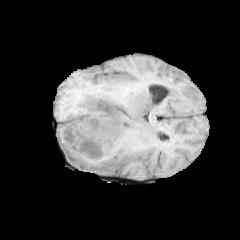glioma: (58, 80, 149, 173)
